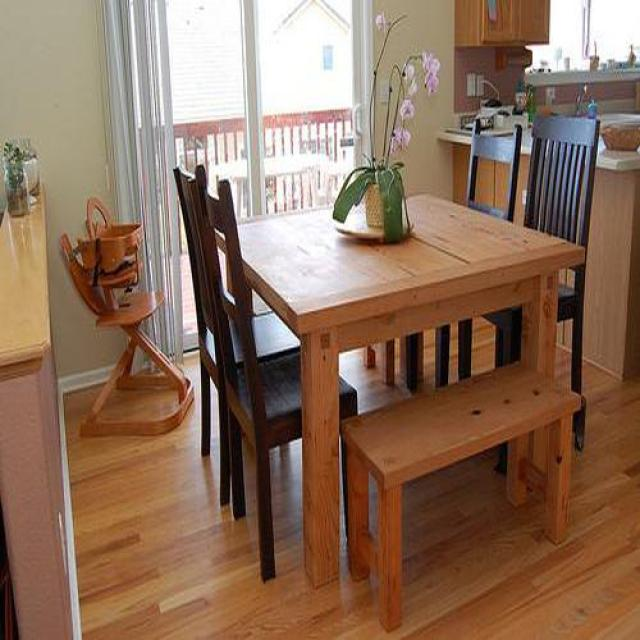table: (237, 196, 585, 591)
